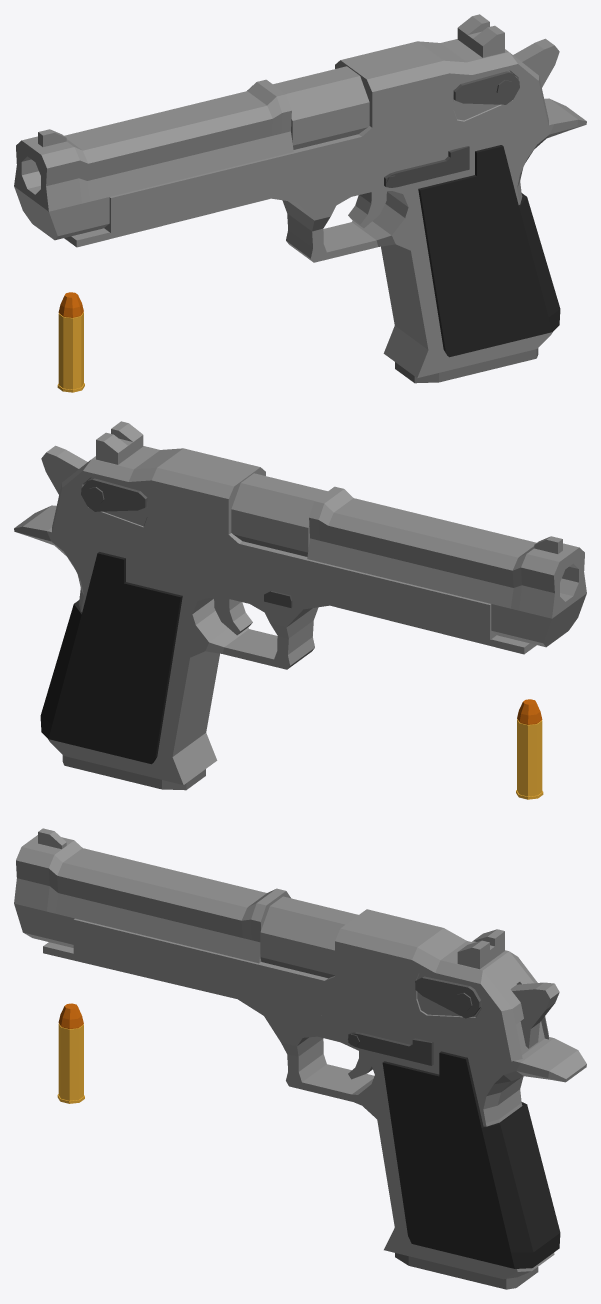
File: Desert Eagle.fbx
3 views of the same model, one above another, from view 1: azimuth 30°, elevation 25°; view 2: azimuth 150°, elevation 25°; view 3: azimuth 330°, elevation 25° (orthographic).
Parts seen in each view (by area): view 1: Desert Eagle, Bullet, Mag; view 2: Desert Eagle, Bullet, Mag; view 3: Desert Eagle, Bullet, Mag.
Part boxes in pixels (bbox=[...]): Desert Eagle: bbox=[14, 14, 586, 377]; Bullet: bbox=[57, 292, 84, 392]; Mag: bbox=[395, 348, 538, 383]; Desert Eagle: bbox=[14, 421, 586, 784]; Bullet: bbox=[516, 699, 543, 799]; Mag: bbox=[62, 755, 205, 790]; Desert Eagle: bbox=[14, 828, 586, 1279]; Bullet: bbox=[57, 1003, 84, 1103]; Mag: bbox=[395, 1253, 538, 1289].
Bounding box in the file's own units: 520 × 302 × 69.75.
1 material, 1 textured.
